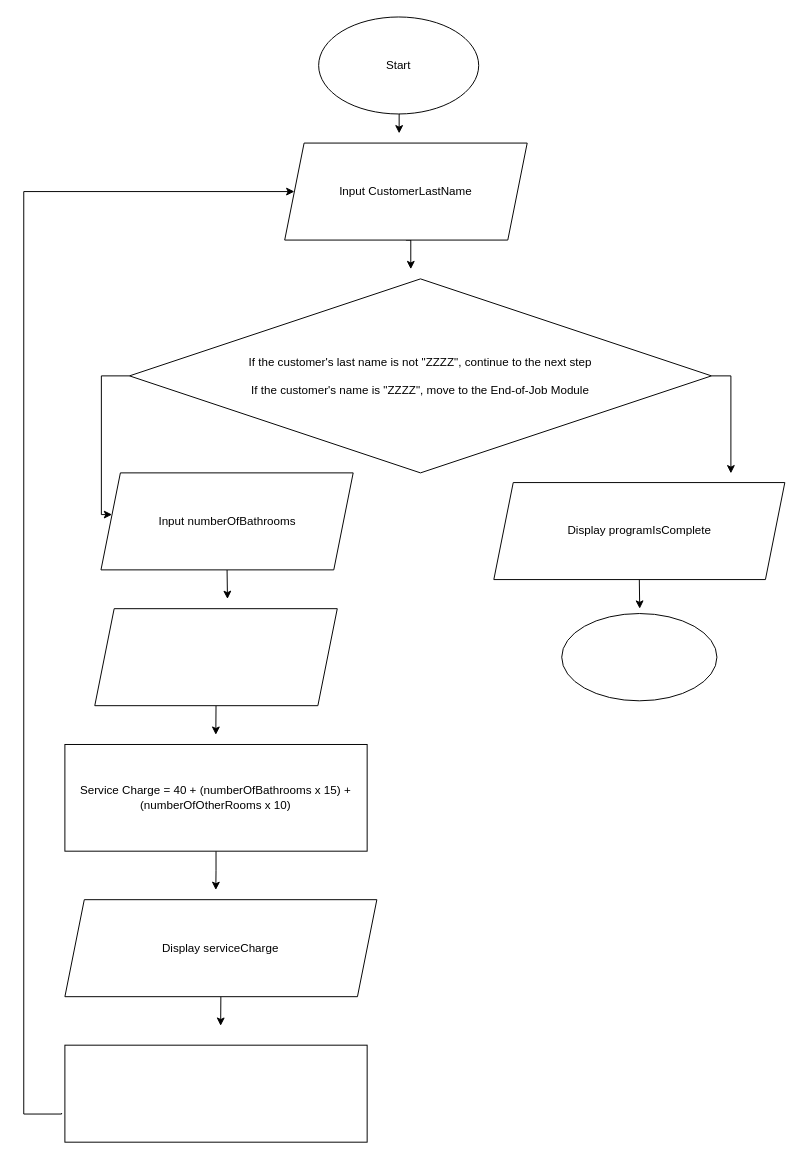
Image size: 802x1159. Some labels were removed from this diagram. Here are the shapes that lost their labels. From the top down, the centre of each, then its label:
At (215,657): "Input numberOfOtherRooms".
At (639,657): "Stop".
At (215,1093): "Redirect user to next customer's name".
